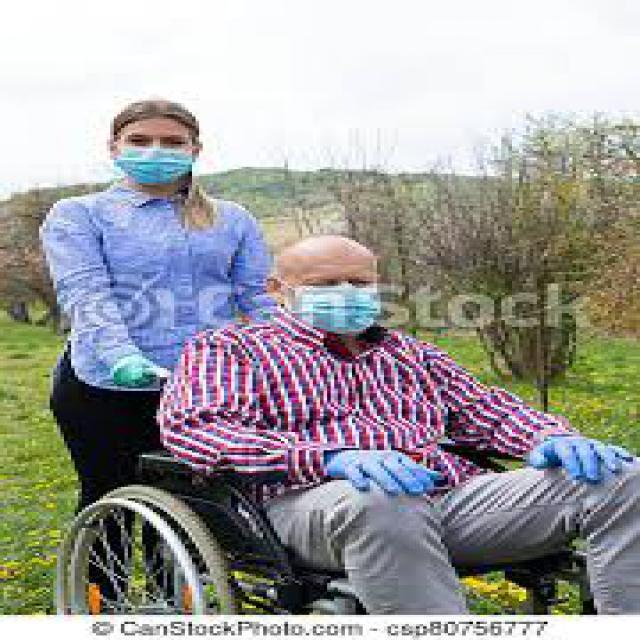wheelchairs: (31, 352, 636, 617)
